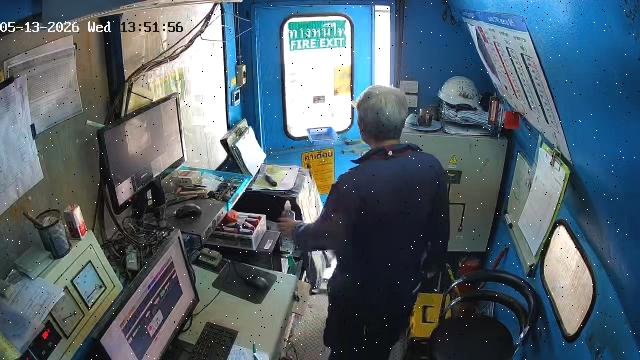Head: (356, 86, 408, 146)
People: (281, 86, 449, 359)
